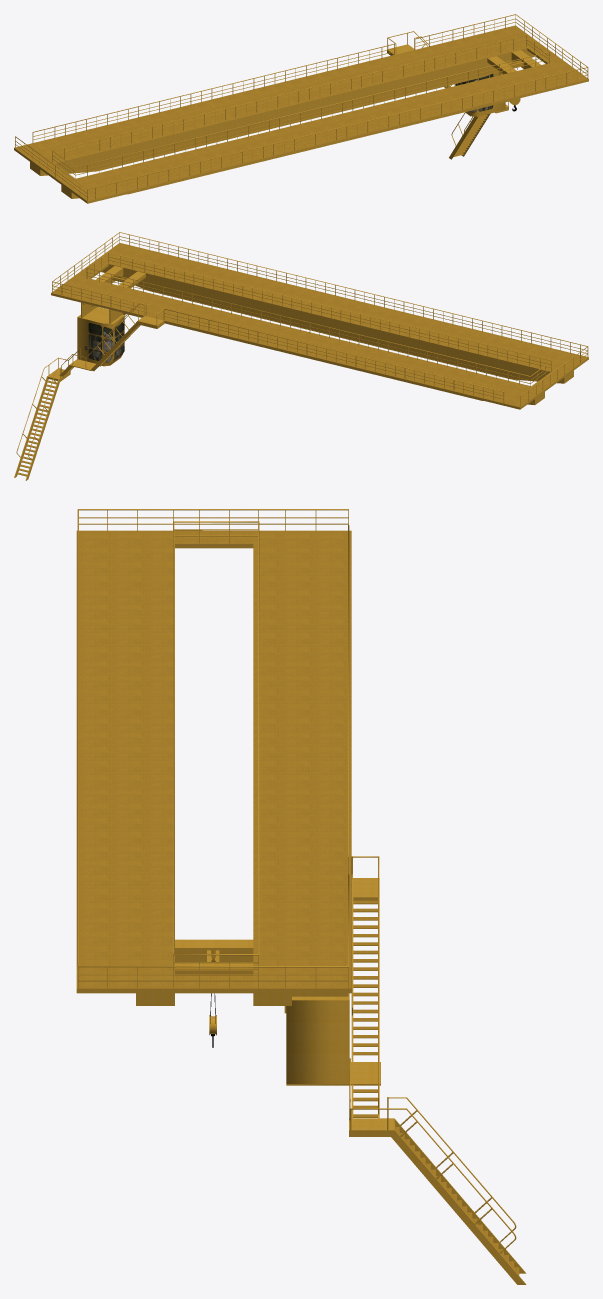
The model's file is VR_diaoche.FBX.
3 renders of one model, top to bottom at view 1: azimuth 30°, elevation 25°; view 2: azimuth 150°, elevation 25°; view 3: azimuth 270°, elevation 25°, orthographic. The views are drawn at different scales.
Visible parts, largest first — view 1: diaoche0082, diaoche0203, diaoche0083, diaoche0199, diaoche0200, diaoche0201, diaoche0122, diaoche0121, diaoche0086, diaoche0085, diaoche0040, diaoche0032 (+2 smaller); view 2: diaoche0082, diaoche0203, diaoche0040, diaoche0083, diaoche0199, diaoche0200, diaoche0201, diaoche0121, diaoche0122, diaoche0032, diaoche0308, diaoche0086 (+1 smaller); view 3: diaoche0082, diaoche0040, diaoche0032, diaoche0083, diaoche0199, diaoche0296, diaoche0121, diaoche0122, diaoche0308, diaoche0203, diaoche0297.
Boxes of the visible parts, left/top/right/bottom form: diaoche0082: left=14, top=25, right=588, bottom=203; diaoche0203: left=30, top=50, right=534, bottom=198; diaoche0083: left=15, top=14, right=588, bottom=189; diaoche0199: left=52, top=35, right=549, bottom=167; diaoche0200: left=53, top=39, right=549, bottom=171; diaoche0201: left=53, top=43, right=549, bottom=175; diaoche0122: left=15, top=22, right=587, bottom=197; diaoche0121: left=15, top=18, right=587, bottom=193; diaoche0086: left=33, top=48, right=395, bottom=136; diaoche0085: left=33, top=51, right=395, bottom=140; diaoche0040: left=454, top=71, right=505, bottom=116; diaoche0032: left=449, top=104, right=508, bottom=159; diaoche0082: left=51, top=243, right=588, bottom=409; diaoche0203: left=101, top=266, right=573, bottom=404; diaoche0040: left=69, top=307, right=124, bottom=370; diaoche0083: left=52, top=232, right=588, bottom=396; diaoche0199: left=87, top=252, right=551, bottom=376; diaoche0200: left=87, top=256, right=551, bottom=380; diaoche0201: left=87, top=260, right=551, bottom=383; diaoche0121: left=52, top=236, right=587, bottom=399; diaoche0122: left=52, top=239, right=587, bottom=402; diaoche0032: left=14, top=368, right=70, bottom=480; diaoche0308: left=91, top=316, right=164, bottom=371; diaoche0086: left=164, top=313, right=503, bottom=395; diaoche0082: left=76, top=530, right=351, bottom=993; diaoche0040: left=286, top=993, right=380, bottom=1085; diaoche0032: left=349, top=1118, right=526, bottom=1284; diaoche0083: left=77, top=509, right=349, bottom=967; diaoche0199: left=173, top=521, right=259, bottom=955; diaoche0296: left=175, top=939, right=253, bottom=961; diaoche0121: left=78, top=517, right=348, bottom=975; diaoche0122: left=78, top=523, right=348, bottom=981; diaoche0308: left=351, top=878, right=379, bottom=1063; diaoche0203: left=136, top=993, right=291, bottom=1005; diaoche0297: left=175, top=962, right=253, bottom=975.
Bounding box in the file's own units: 32.21 × 10.66 × 13.36.
